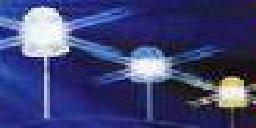LED: (13, 3, 78, 77), (116, 40, 175, 116), (202, 69, 256, 125)
